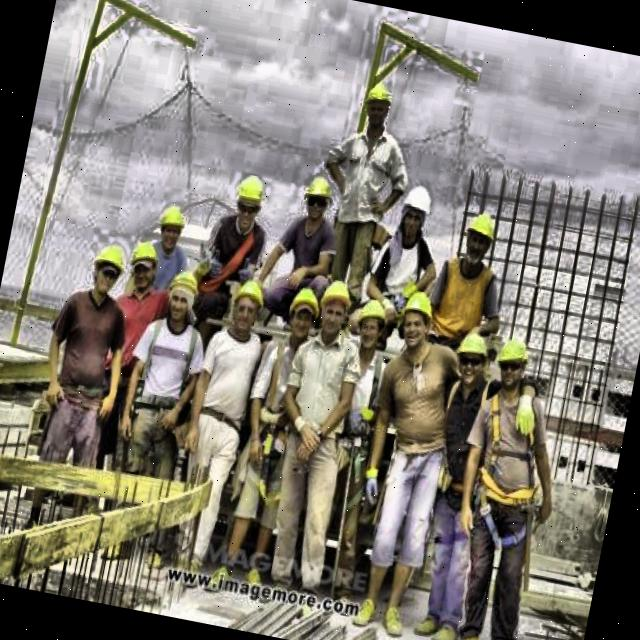helmet: (453, 203, 503, 272), (159, 262, 205, 334), (488, 333, 538, 396), (394, 178, 440, 245), (449, 330, 496, 394), (81, 243, 129, 304), (357, 70, 400, 138), (393, 288, 438, 352), (230, 168, 270, 238), (352, 291, 394, 357), (282, 281, 324, 347), (316, 276, 356, 343), (226, 276, 268, 338), (124, 236, 165, 289), (154, 200, 190, 257), (302, 175, 336, 233)
